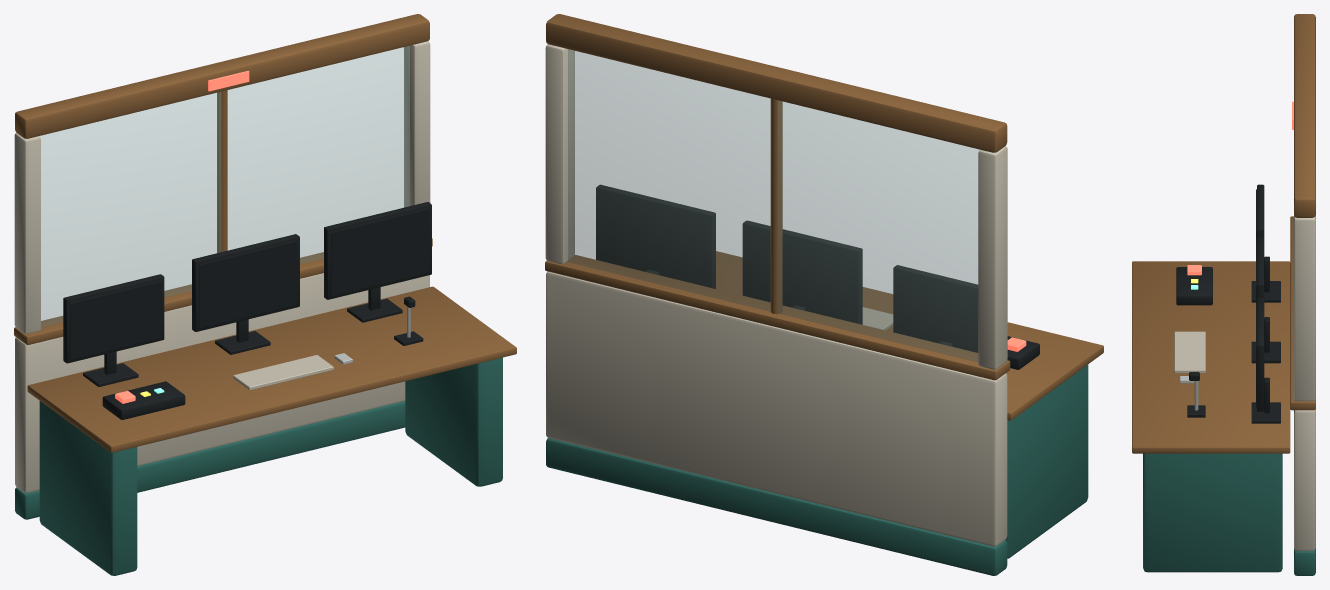
The model's file is radiology-console.glb.
The picture shows the model from 3 angles, left to right: view 1: azimuth 30°, elevation 25°; view 2: azimuth 150°, elevation 25°; view 3: azimuth 270°, elevation 25°; orthographic projection. The views are drawn at different scales.
Parts seen in each view (by area): view 1: radiology-console; view 2: radiology-console; view 3: radiology-console.
Boxes of the visible parts, x1=… form: radiology-console: x1=14, y1=14, x2=516, y2=575; radiology-console: x1=545, y1=14, x2=1103, y2=575; radiology-console: x1=1132, y1=14, x2=1315, y2=575.
Size of the model in its own units: 2.4 by 2.27 by 1.
